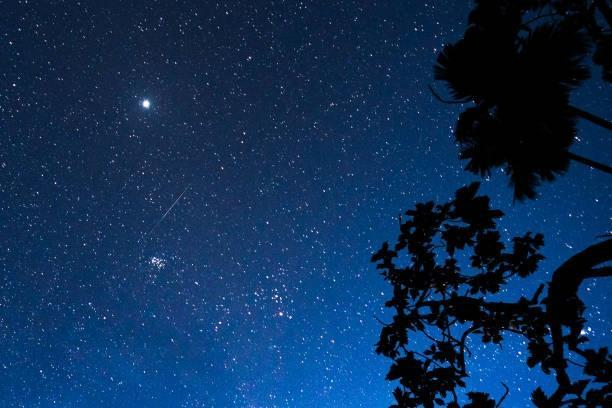meteorite: (143, 165, 197, 231)
